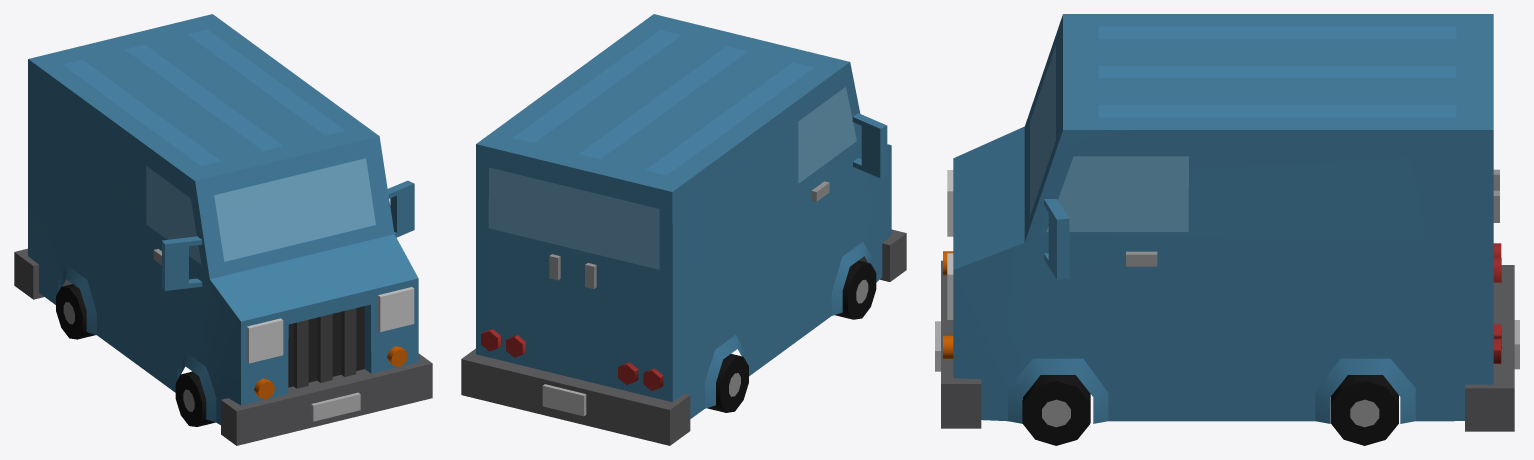
Rendered from Car_11_blue.fbx.
3 views of the same model, side by side, from view 1: azimuth 30°, elevation 25°; view 2: azimuth 150°, elevation 25°; view 3: azimuth 270°, elevation 25° (orthographic). The views are drawn at different scales.
Visible parts, largest first — view 1: Car_11_blue; view 2: Car_11_blue; view 3: Car_11_blue.
Boxes of the visible parts, bbox=[...] form: Car_11_blue: bbox=[14, 14, 432, 445]; Car_11_blue: bbox=[461, 14, 906, 445]; Car_11_blue: bbox=[935, 14, 1519, 445].
Size of the model in its own units: 65.22 by 60.13 by 103.
